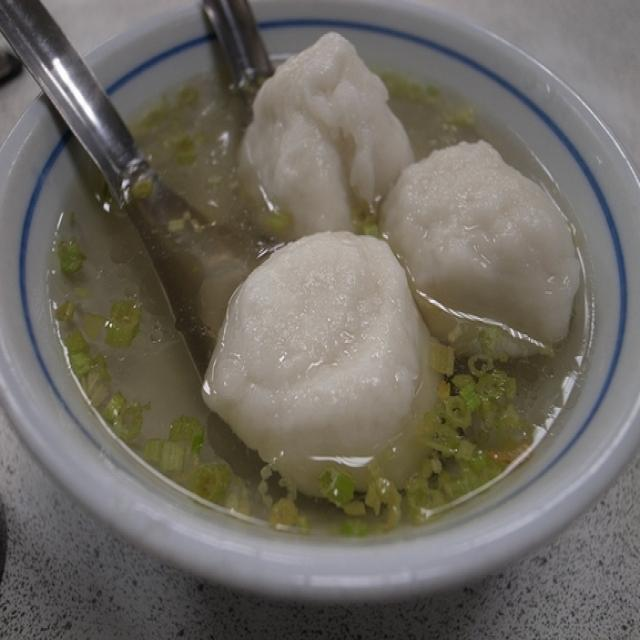熟制海鲜: (13, 13, 628, 597)
